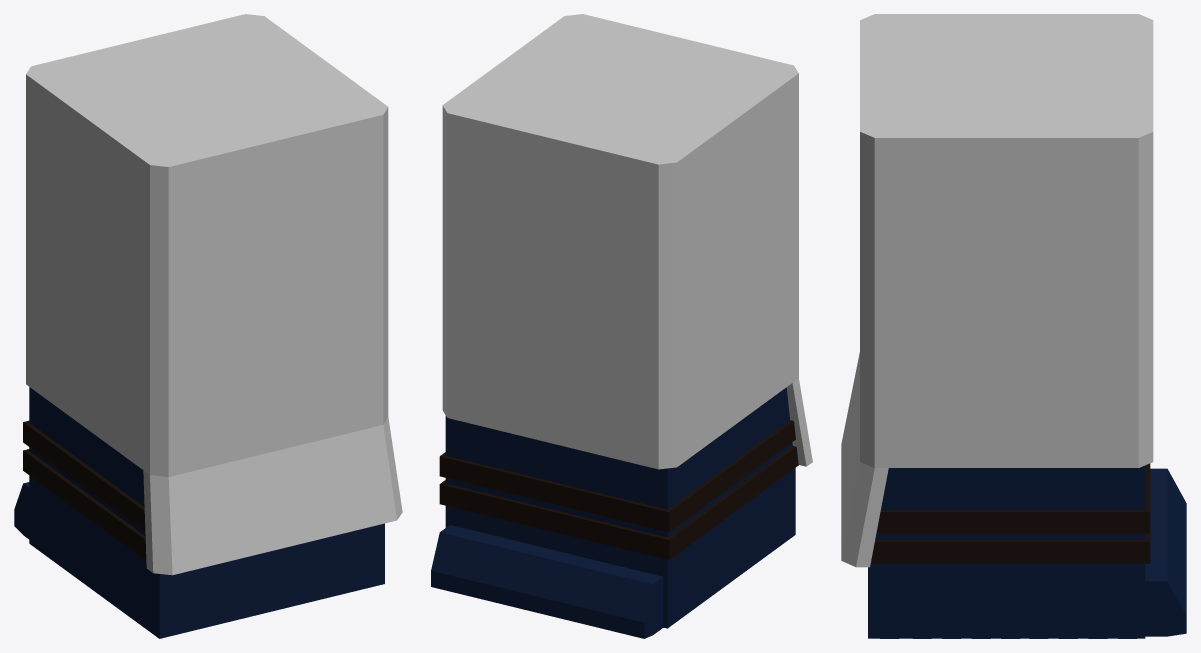
File: left.obj
The picture shows the model from 3 angles, left to right: view 1: azimuth 30°, elevation 25°; view 2: azimuth 150°, elevation 25°; view 3: azimuth 270°, elevation 25°; orthographic projection. The views are drawn at different scales.
Parts seen in each view (by area): view 1: Meshpart3, Meshpart2, Meshpart1; view 2: Meshpart3, Meshpart2, Meshpart1; view 3: Meshpart3, Meshpart2, Meshpart1.
Part boxes in pixels (x1,y1,x2,y2): Meshpart3: (26, 14, 402, 575); Meshpart2: (14, 387, 384, 638); Meshpart1: (23, 420, 146, 560); Meshpart3: (442, 14, 812, 469); Meshpart2: (431, 387, 795, 638); Meshpart1: (439, 420, 798, 559); Meshpart3: (841, 14, 1153, 567); Meshpart2: (868, 465, 1186, 638); Meshpart1: (870, 463, 1150, 563).
Bounding box in the file's own units: 1.12 × 2.04 × 1.26.
